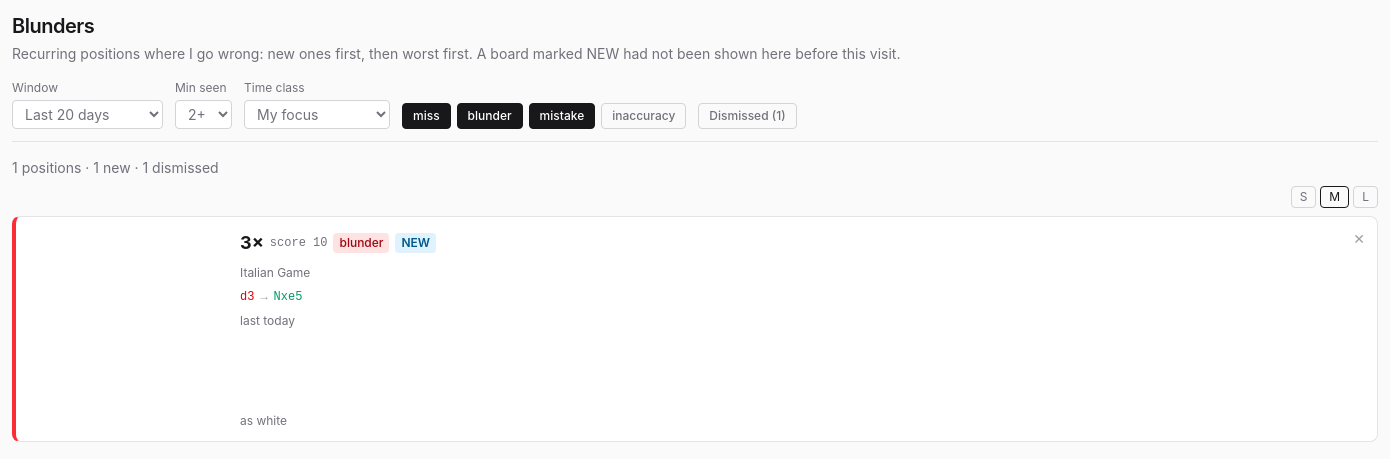
Blunders page › shows no NEW chip in the Dismissed view, even for a board shown NEW a moment ago
Expected: the text "NEW" is shown, [396,233,436,253]
Click the button named "Dismiss": (1359, 239) [1353,229,1365,249]
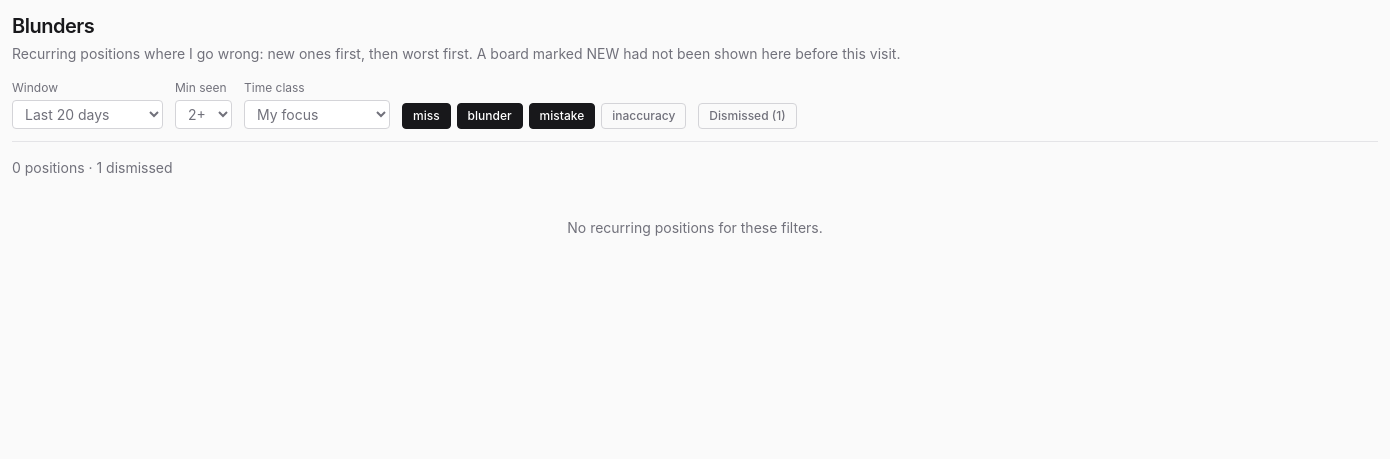
Expected: the text "No recurring positions for these filters." is shown, [567,219,823,236]
Click the button "Dismissed (1)": (747, 116) [698,103,797,129]
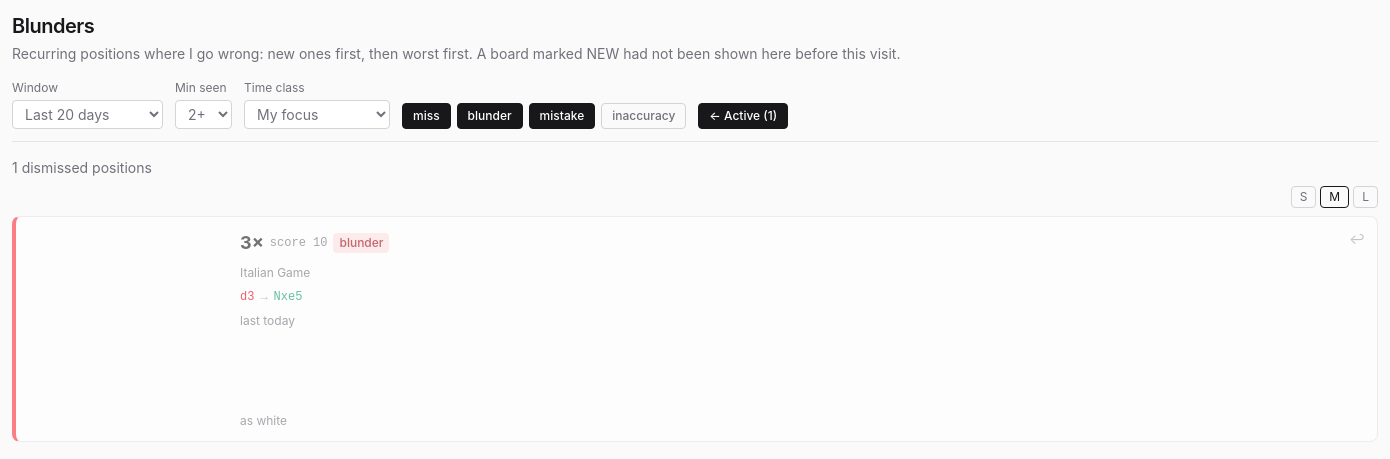
Expected: the text "3×" is shown, [240,229,264,257]
